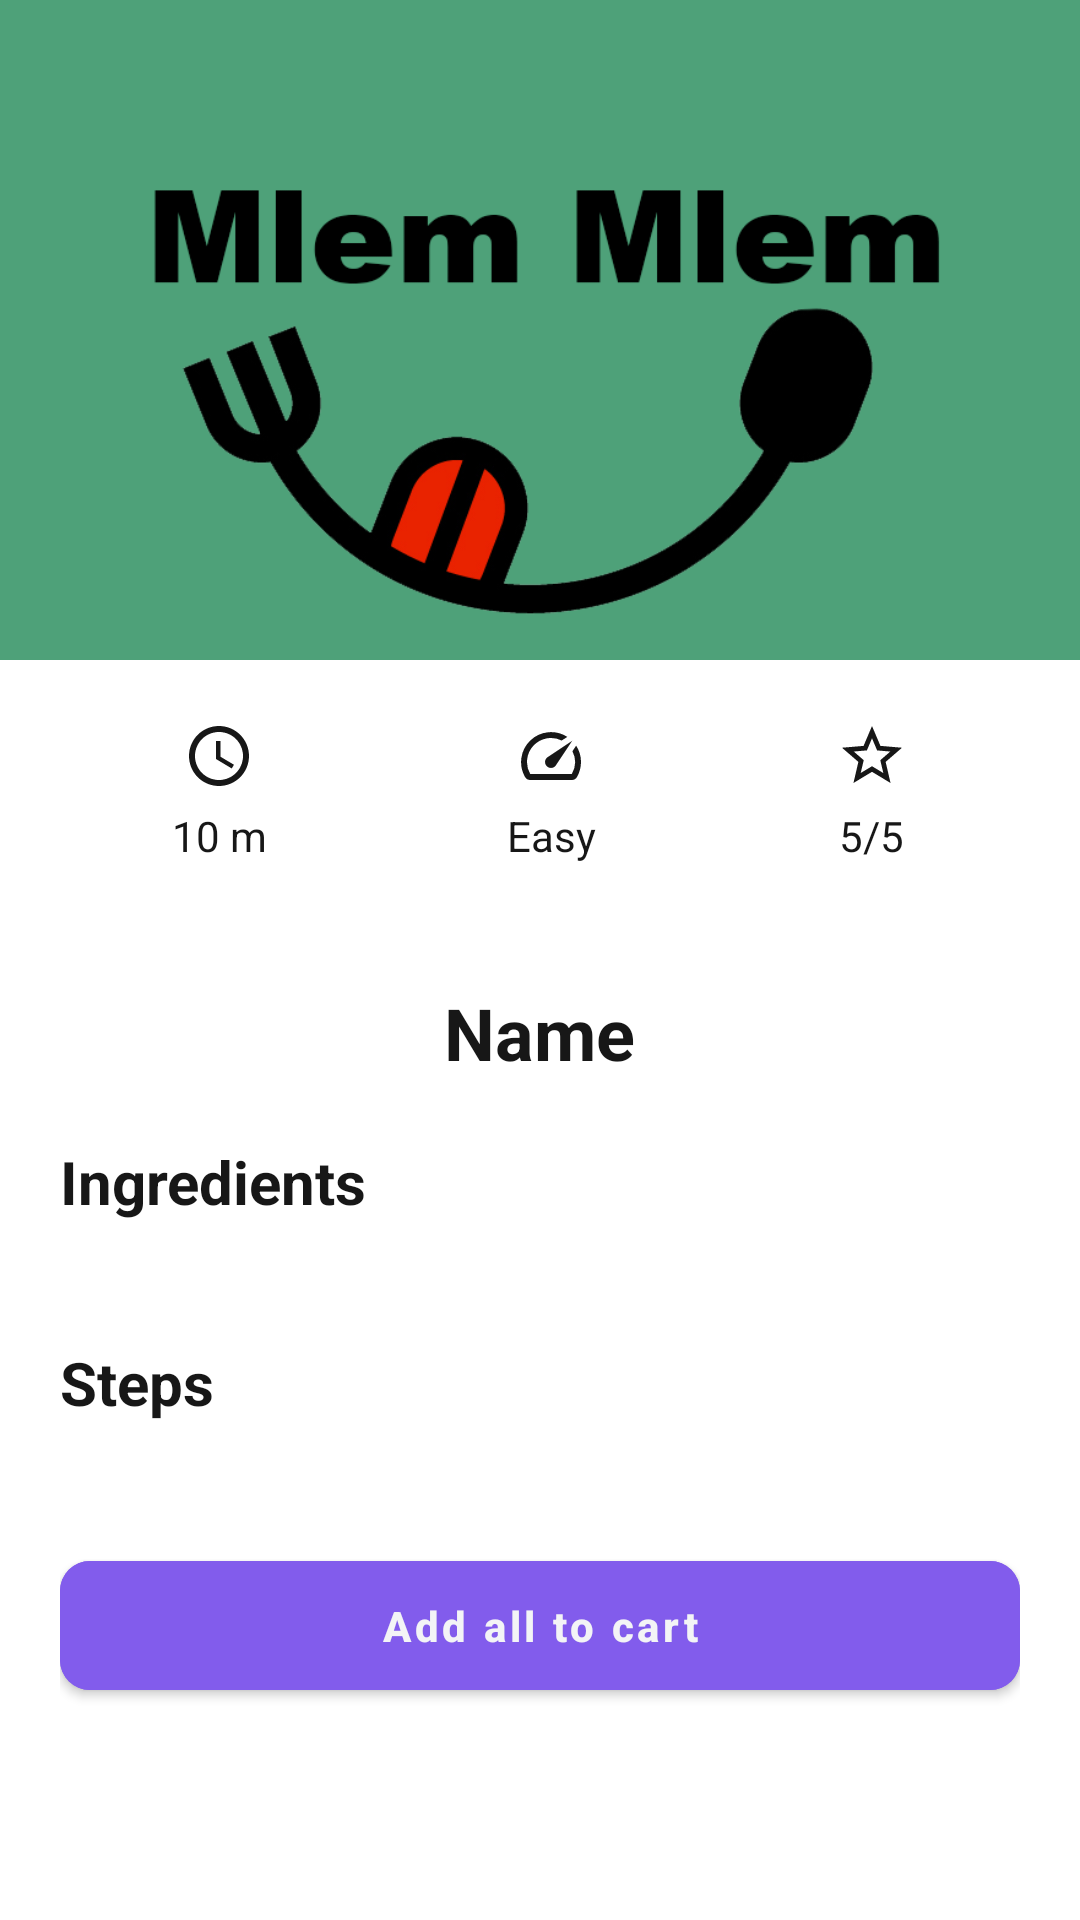

Where icons sit on this 1080 × 1920 app screen, as (x1, y1, x2, y2):
clock: (189, 726, 249, 786)
speed: (521, 732, 581, 780)
star: (842, 726, 902, 783)
